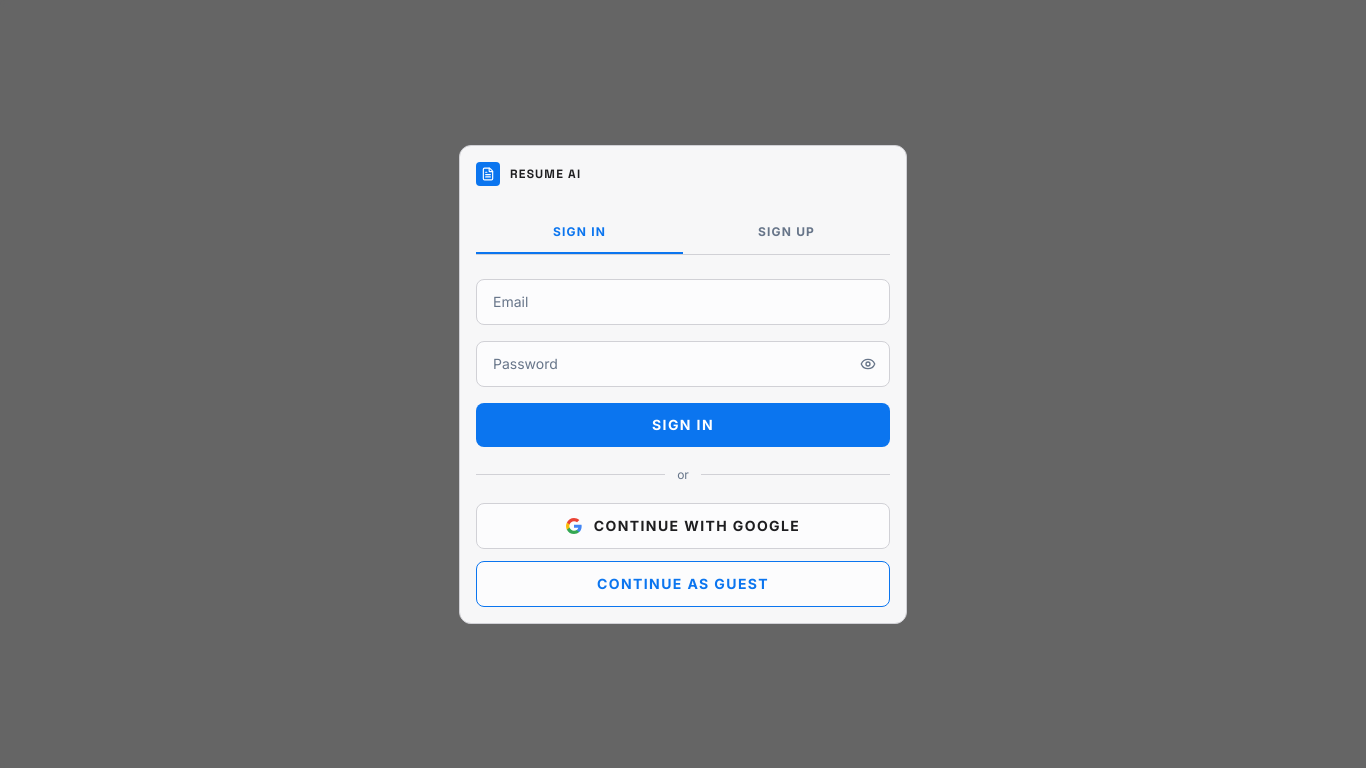
AuthModal — tab switching › switches back to Sign In tab after being on Sign Up
Step 1. Click the button "Sign Up" → (786, 232), box [683,210,890,254]
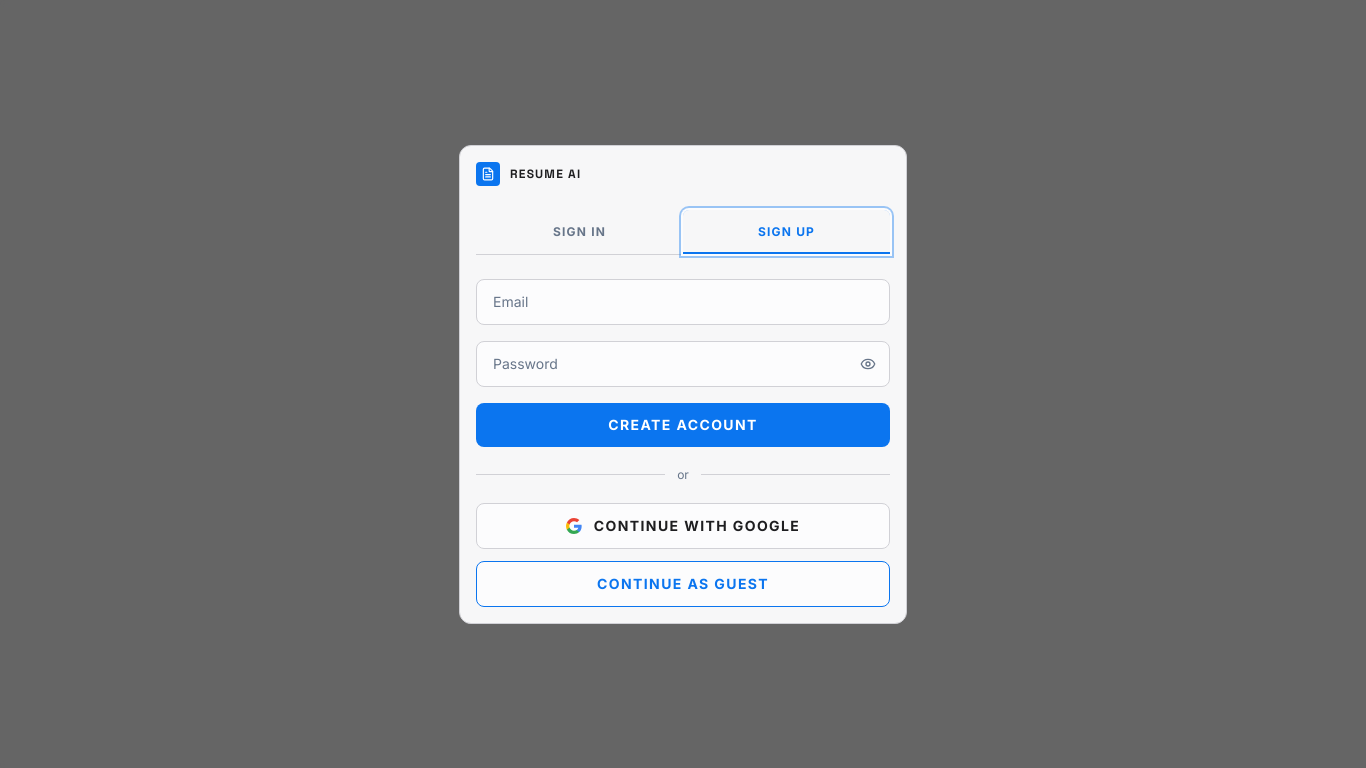
Step 2. Click the button "Sign In" → (580, 232), box [476,210,683,254]
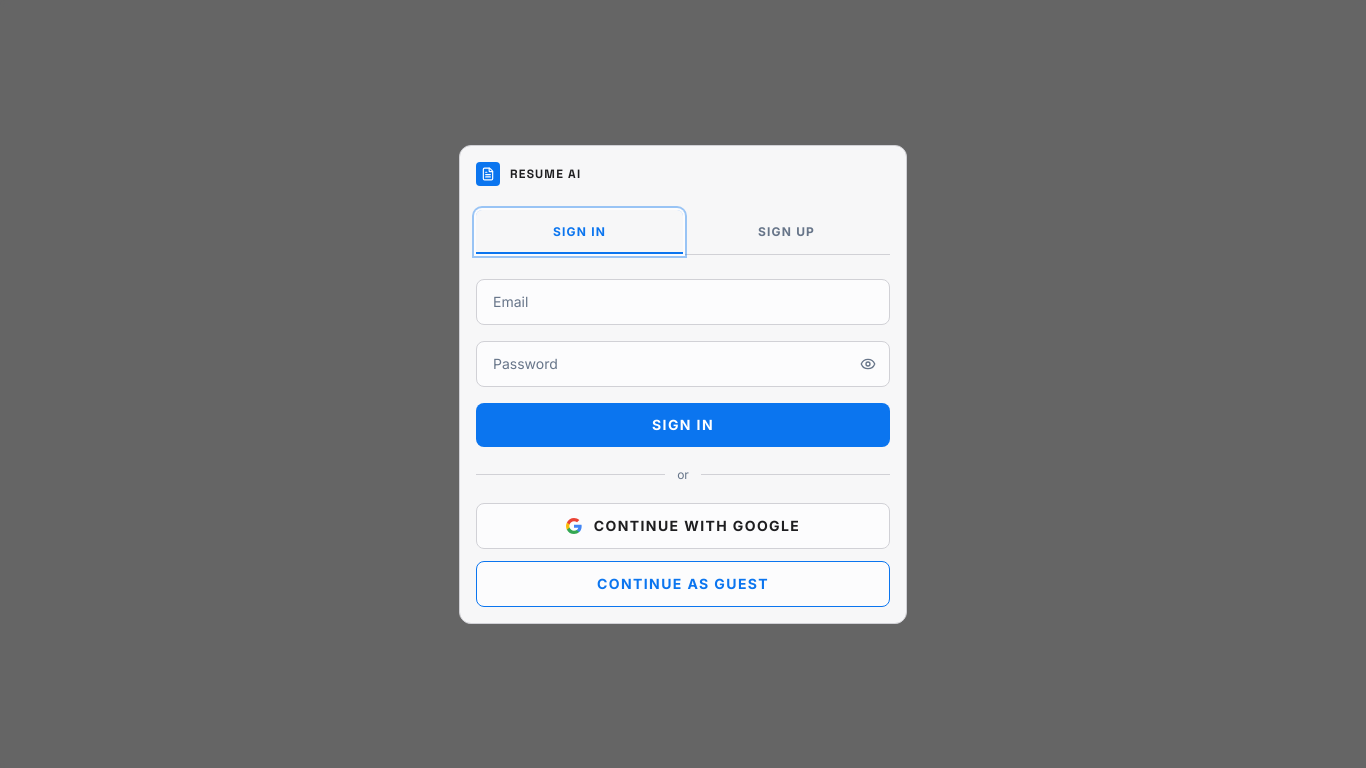
Check: the 2nd button "Sign In" is shown, box [476,402,890,446]
